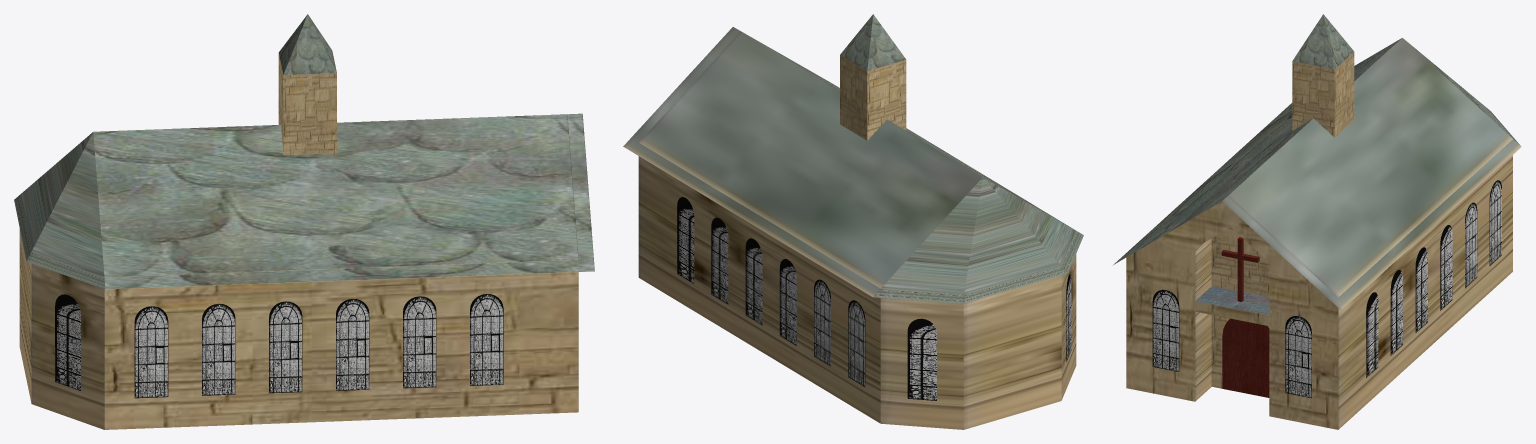
File: GMLID_BUI46739_1739_10911.gltf
The picture shows the model from 3 angles, left to right: view 1: azimuth 30°, elevation 25°; view 2: azimuth 150°, elevation 25°; view 3: azimuth 270°, elevation 25°; orthographic projection. The views are drawn at different scales.
Parts seen in each view (by area): view 1: Z_UP; view 2: Z_UP; view 3: Z_UP.
Part boxes in pixels (x1,y1,x2,y2): Z_UP: (14, 14, 594, 429); Z_UP: (623, 14, 1083, 429); Z_UP: (1113, 14, 1521, 429).
Size of the model in its own units: 26.9 by 17.4 by 21.
Materials: 2 (1 with a texture image).
